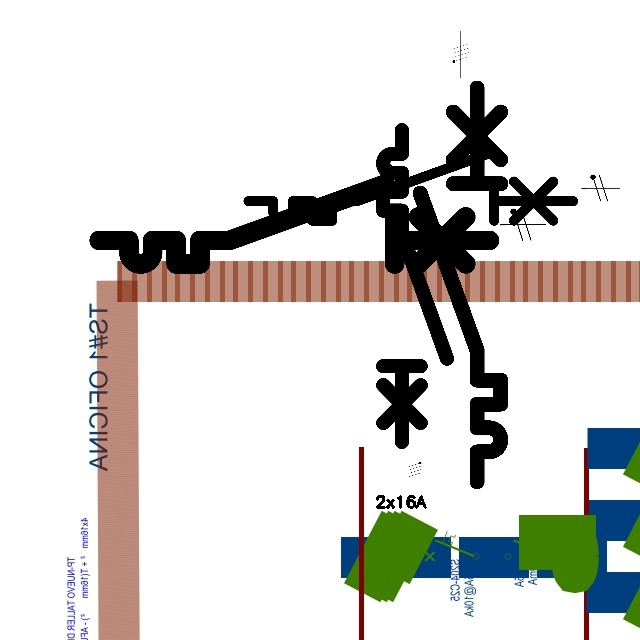interruptor_termomagnetico: (410, 77, 511, 491), (89, 174, 499, 274), (240, 146, 581, 229), (375, 122, 455, 450)
